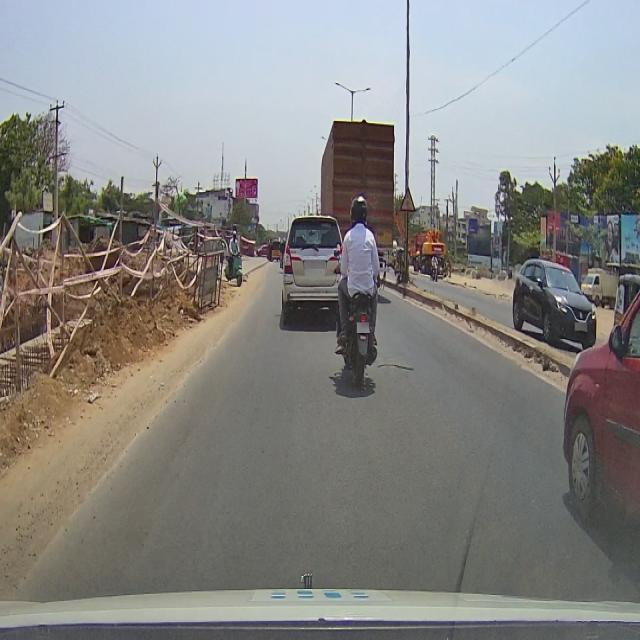barrier ahead at: (191, 229, 227, 315)
car ahead at: (280, 207, 336, 322)
motorcycle ahead at: (338, 301, 382, 387)
